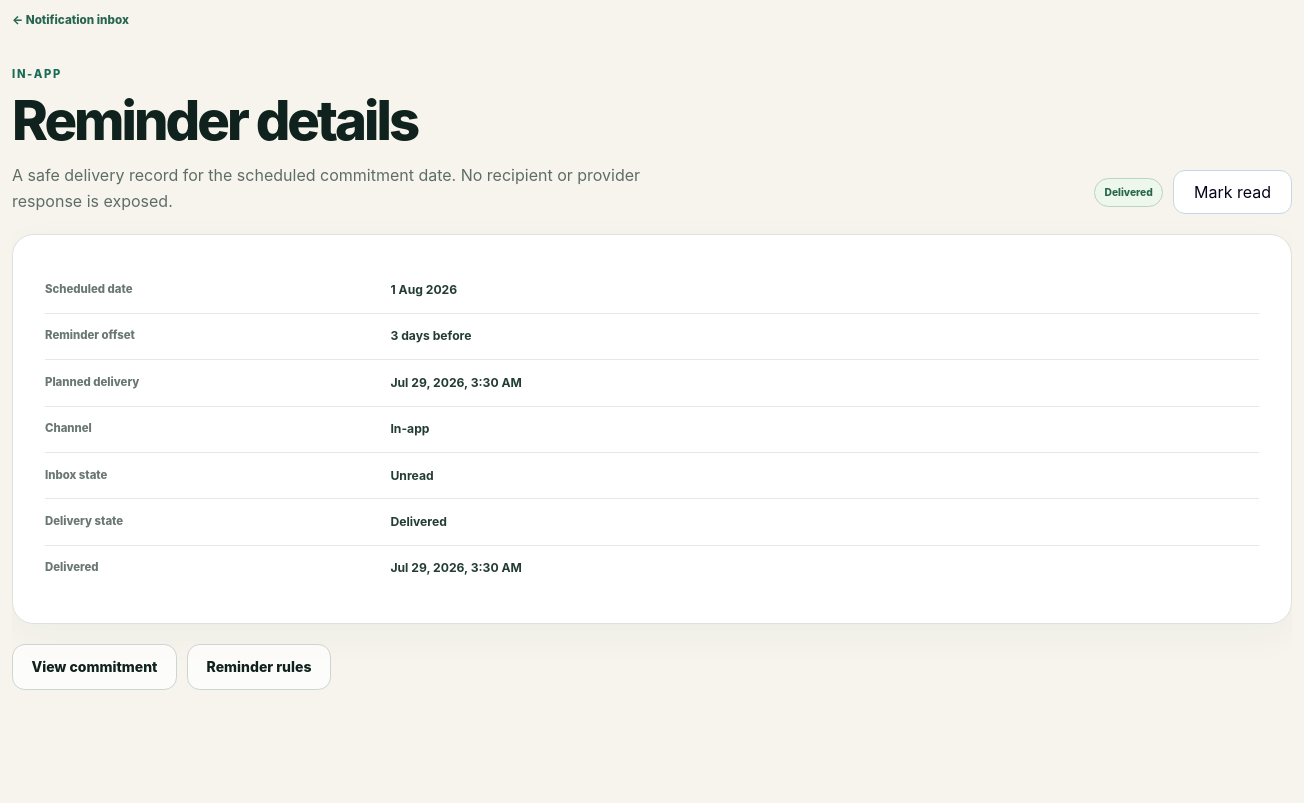
Test case: NotificationDetailScreen › reloads the latest notification after a 412 before retrying
This screenshot has width=1304, height=803.
Click the button "Mark read" at (1232, 192), box x1=1173 y1=170 x2=1292 y2=214
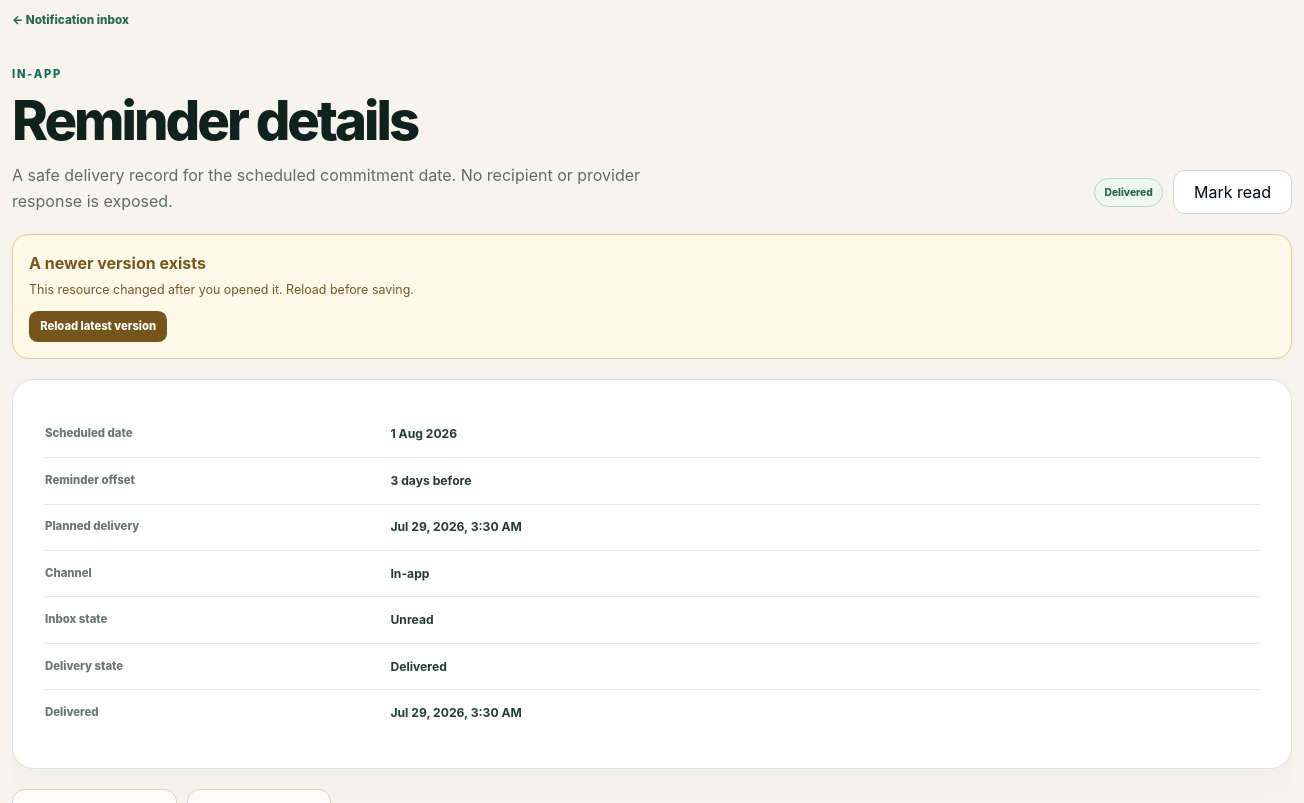
Expected: the text "A newer version exists" is shown, x1=29 y1=253 x2=206 y2=273
Click the button "Reload latest version" at (98, 326), box x1=29 y1=311 x2=167 y2=342
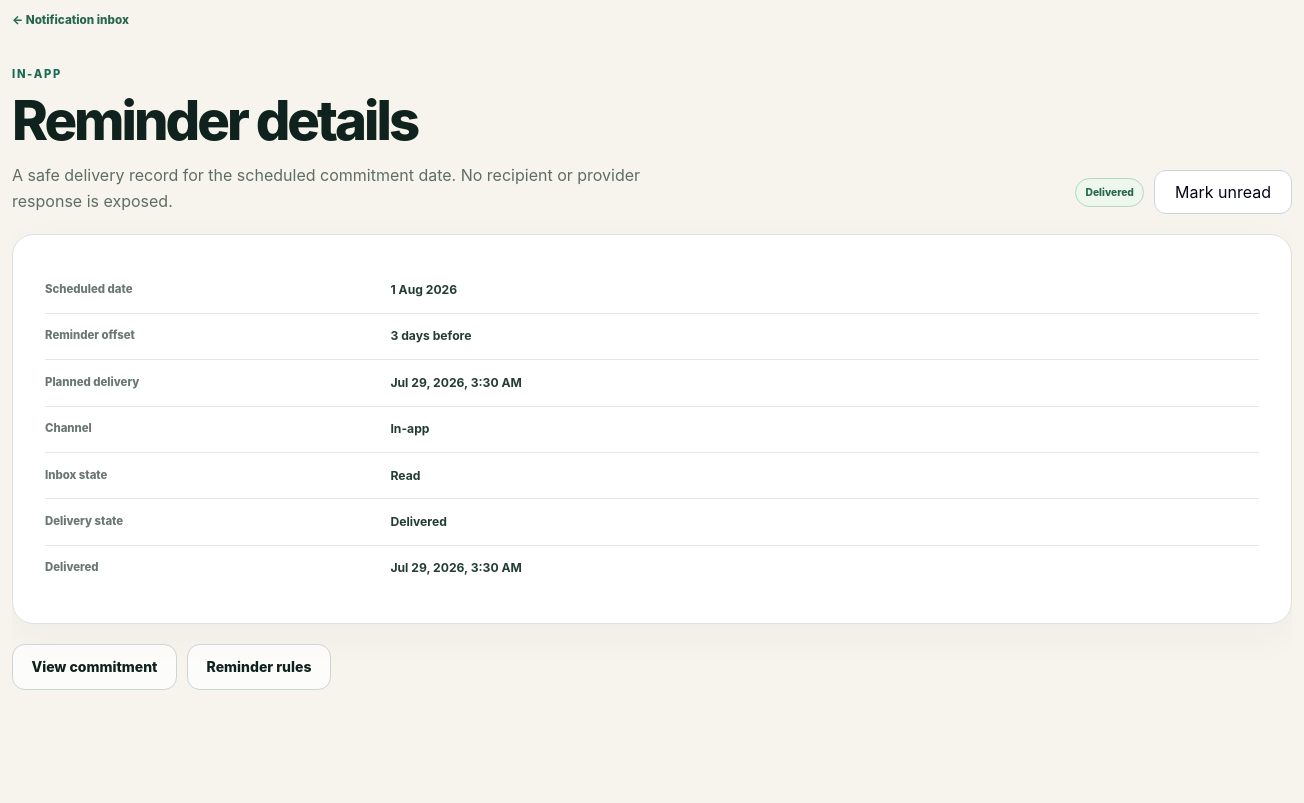
Expected: the button "Mark unread" is shown
Click the button "Mark unread" at (1223, 192), box x1=1154 y1=170 x2=1292 y2=214
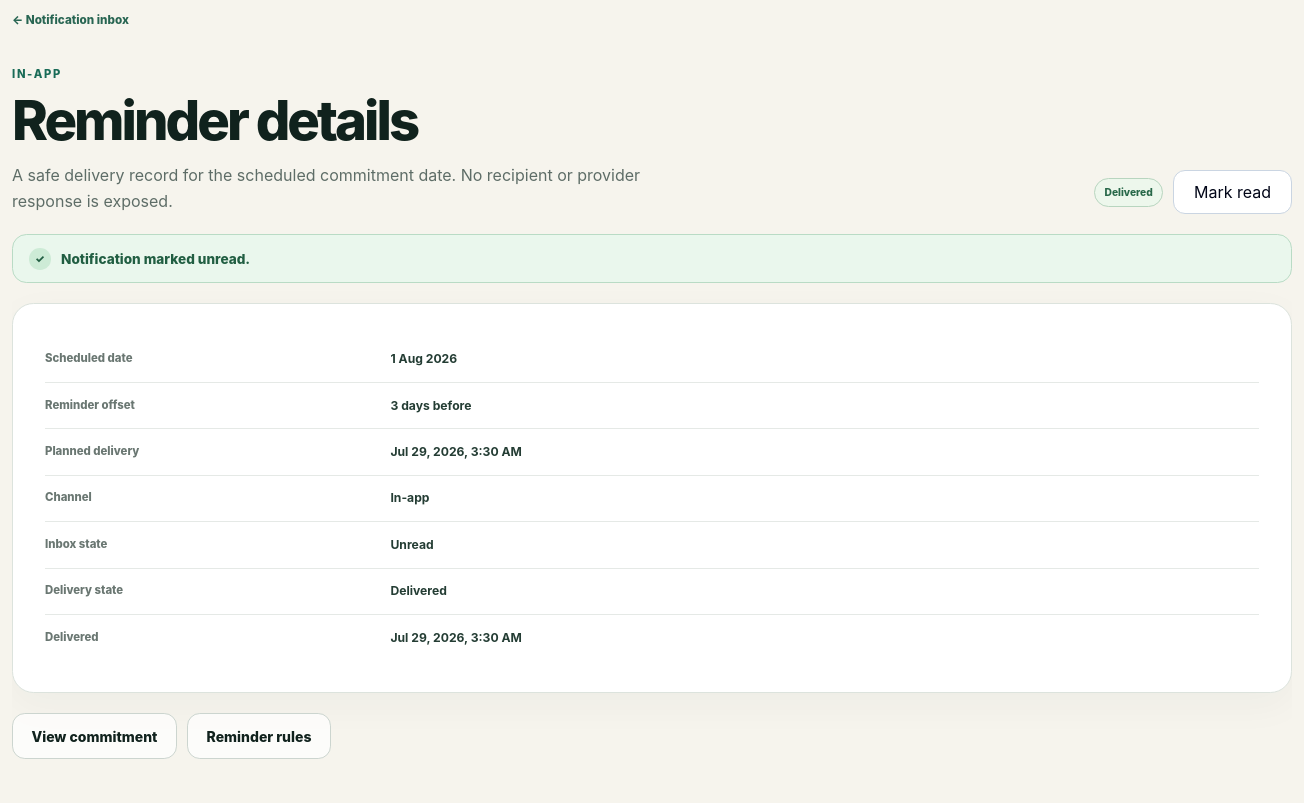
Expected: the text "Notification marked unread." is shown, x1=61 y1=251 x2=250 y2=267
